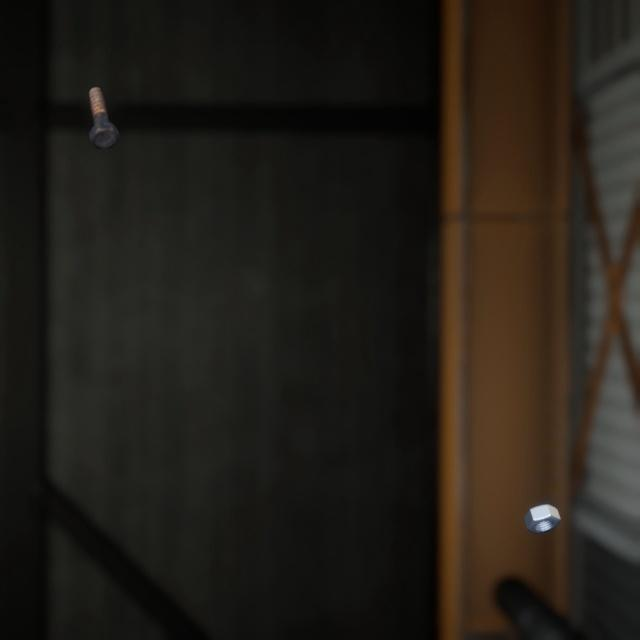bolt: (84, 71, 123, 140)
nut: (518, 477, 565, 516)
